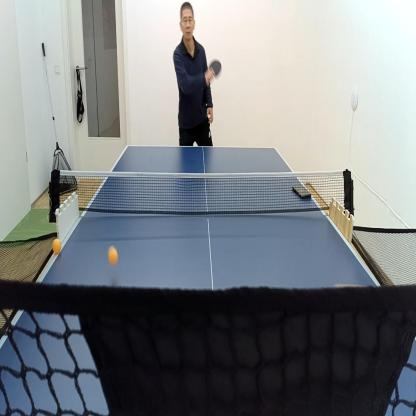Ball: (106, 244, 120, 268), (52, 236, 63, 256)
